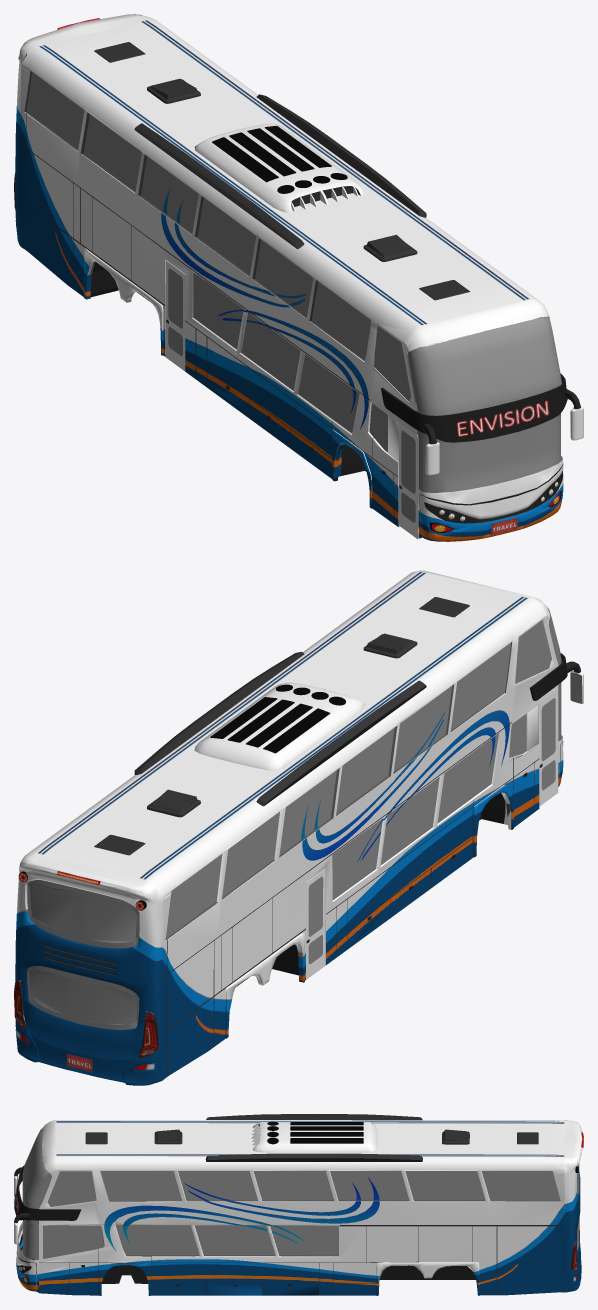
File: BUS_NO_4.FBX
3 renders of one model, top to bottom at view 1: azimuth 30°, elevation 25°; view 2: azimuth 150°, elevation 25°; view 3: azimuth 270°, elevation 25°, orthographic. The views are drawn at different scales.
Visible parts, largest first — view 1: BUS_NO_4, passenger_door, front_door_0; view 2: BUS_NO_4, front_door_0, passenger_door; view 3: BUS_NO_4.
Part boxes in pixels (bbox=[...]): BUS_NO_4: bbox=[14, 14, 583, 541]; passenger_door: bbox=[165, 260, 185, 371]; front_door_0: bbox=[399, 423, 421, 539]; BUS_NO_4: bbox=[14, 570, 583, 1085]; front_door_0: bbox=[538, 691, 558, 806]; passenger_door: bbox=[306, 868, 325, 979]; BUS_NO_4: bbox=[14, 1114, 583, 1295].
Size of the model in its own units: 66.18 by 86.34 by 314.
Materials: 8 (6 with a texture image).
